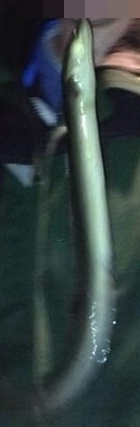Anguilla anguilla: (20, 20, 120, 407)
